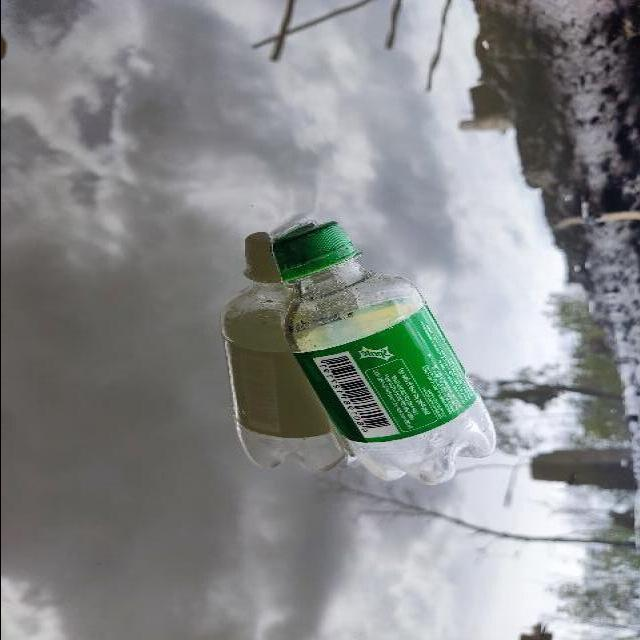Bottle: (257, 216, 505, 490)
